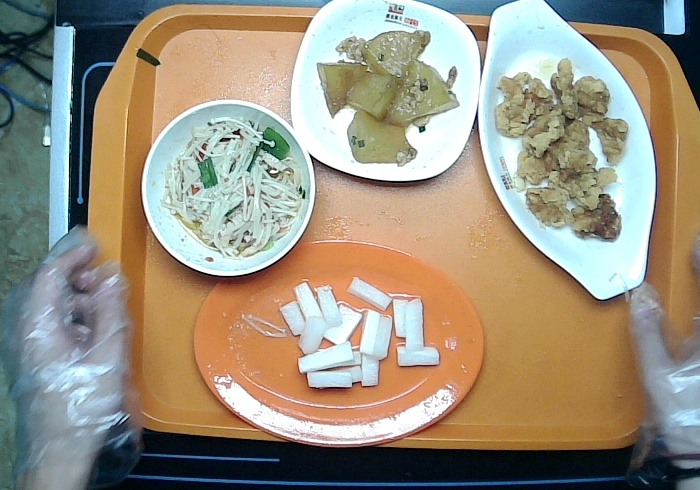NLDX-Bai_Se_Xiao_Fang_Die: (288, 1, 480, 182)
NLDX-Fan_Wan: (140, 100, 315, 278)
NLDX-Ju_Se_Pan: (192, 239, 485, 447)
NLDX-Yu_Pan: (477, 1, 658, 302)
